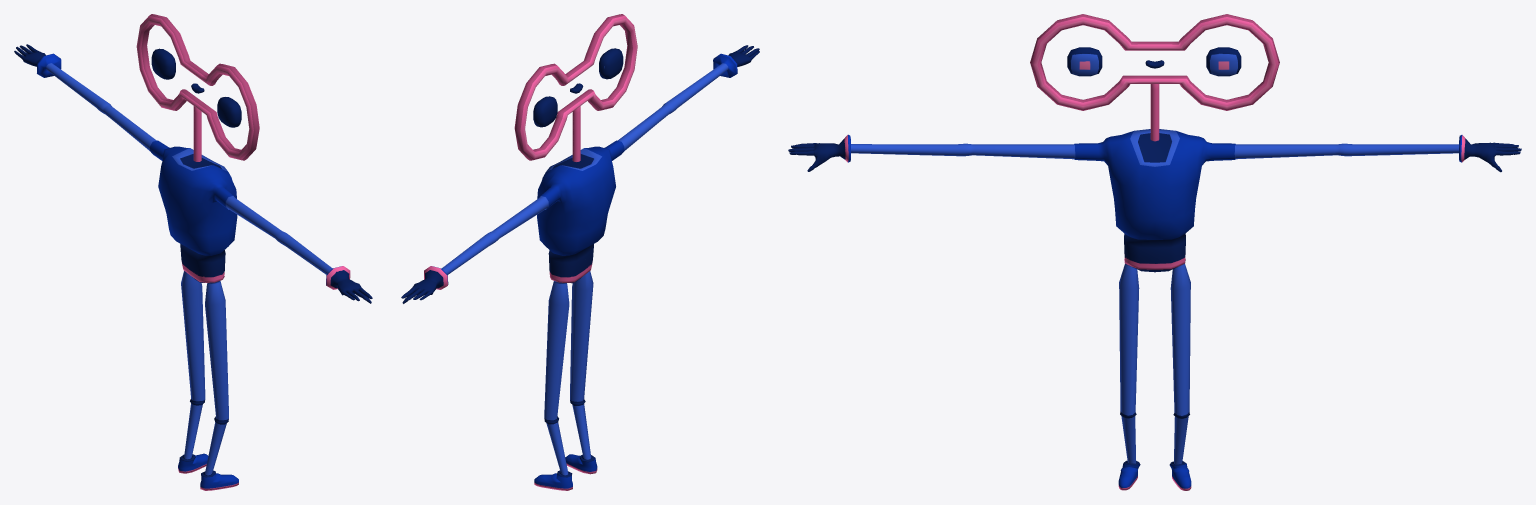
File: Lup Lup.glb
3 renders of one model, left to right at view 1: azimuth 30°, elevation 25°; view 2: azimuth 150°, elevation 25°; view 3: azimuth 270°, elevation 25°, orthographic. The views are drawn at different scales.
Parts seen in each view (by area): view 1: _100Avatars_151_LupLup; view 2: _100Avatars_151_LupLup; view 3: _100Avatars_151_LupLup.
Part boxes in pixels (left/top/right/bottom): _100Avatars_151_LupLup: left=14, top=14, right=372, bottom=490; _100Avatars_151_LupLup: left=401, top=14, right=759, bottom=490; _100Avatars_151_LupLup: left=788, top=14, right=1521, bottom=490.
Size of the model in its own units: 0.6434 by 4.4 by 6.33.
Materials: 1 (1 with a texture image).
